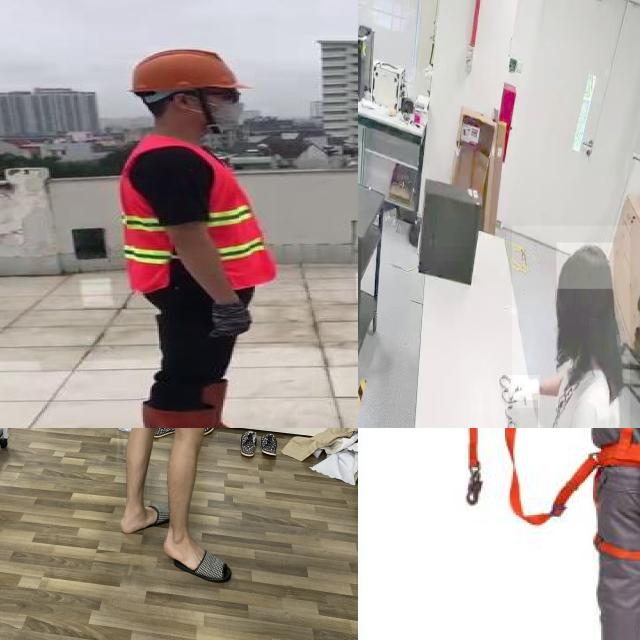Harness: (586, 428, 640, 561)
Sandals: (164, 528, 236, 582), (116, 501, 168, 532)
boots: (174, 379, 275, 428), (130, 403, 267, 428)
face_mask: (190, 87, 252, 129)
hand_glove: (200, 303, 271, 338), (506, 375, 540, 408), (508, 400, 538, 428)
head_helmet: (127, 46, 246, 94)
head_nohelmet: (556, 242, 614, 290)
person: (109, 45, 288, 428), (511, 225, 630, 428)
vest: (116, 136, 276, 294)
